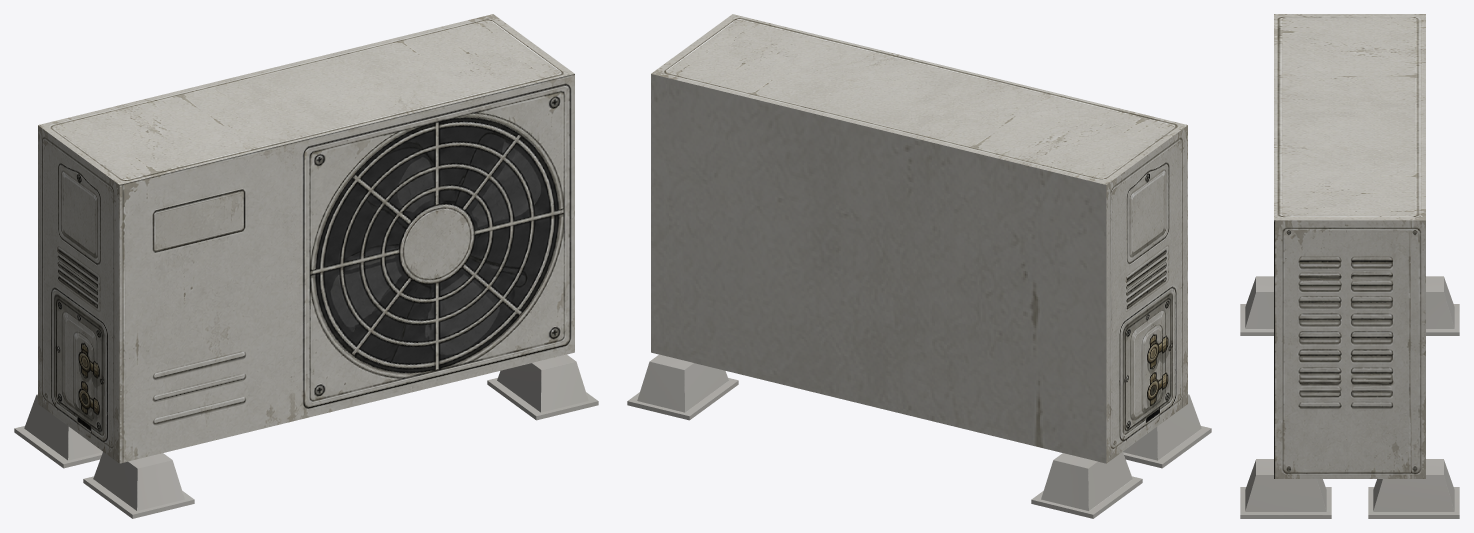
File: 바닥 에어컨 실외기.fbx
The picture shows the model from 3 angles, left to right: view 1: azimuth 30°, elevation 25°; view 2: azimuth 150°, elevation 25°; view 3: azimuth 270°, elevation 25°; orthographic projection. The views are drawn at different scales.
Visible parts, largest first — view 1: 바닥_에어컨_실외기_1; view 2: 바닥_에어컨_실외기_1; view 3: 바닥_에어컨_실외기_1.
Part boxes in pixels (left/top/right/bottom): 바닥_에어컨_실외기_1: left=14, top=14, right=598, bottom=518; 바닥_에어컨_실외기_1: left=627, top=14, right=1211, bottom=518; 바닥_에어컨_실외기_1: left=1240, top=14, right=1459, bottom=518.
Size of the model in its own units: 45.1 by 29.54 by 19.8.
Materials: 1 (1 with a texture image).
